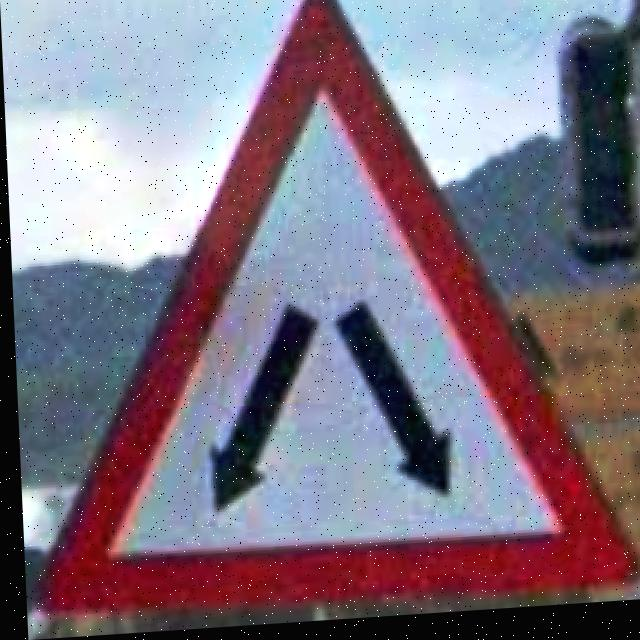diverge: (8, 0, 638, 634)
